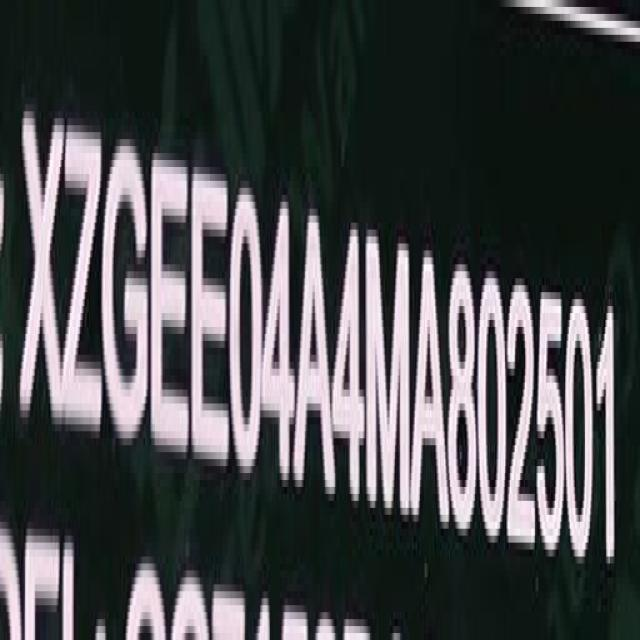0: (230, 180, 262, 486), (478, 265, 507, 548), (565, 289, 594, 565)
1: (597, 304, 617, 577)
2: (509, 280, 537, 556)
4: (261, 196, 296, 494), (335, 214, 365, 516)
5: (538, 285, 566, 563)
8: (448, 255, 479, 540)
A: (299, 204, 334, 501), (413, 241, 448, 533)
E: (150, 154, 192, 464), (192, 160, 232, 477)
G: (106, 127, 152, 448)
M: (364, 227, 413, 526)
X: (17, 100, 66, 429)
Z: (62, 112, 103, 439)
